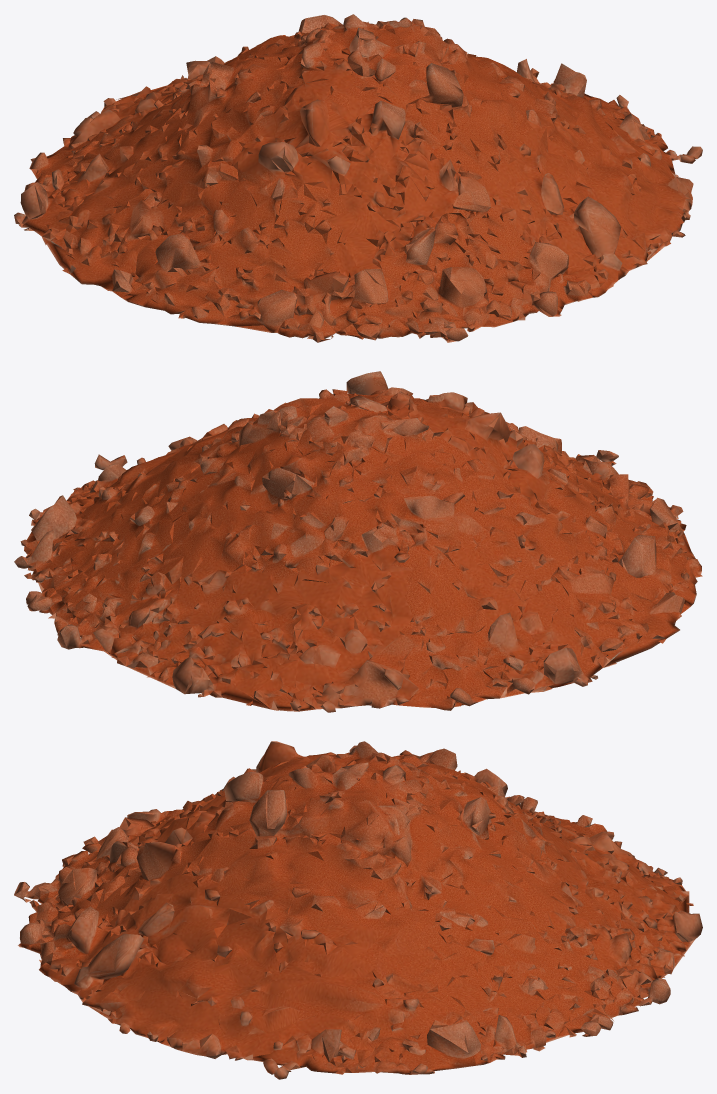
The model's file is soil.glb.
3 views of the same model, one above another, from view 1: azimuth 30°, elevation 25°; view 2: azimuth 150°, elevation 25°; view 3: azimuth 270°, elevation 25° (orthographic).
Visible parts, largest first — view 1: mesh_node; view 2: mesh_node; view 3: mesh_node.
Part boxes in pixels (bbox=[...]): mesh_node: bbox=[14, 14, 702, 342]; mesh_node: bbox=[14, 371, 702, 712]; mesh_node: bbox=[14, 741, 702, 1079].
Bounding box in the file's own units: 3.66 × 1 × 3.63.
1 material, 1 textured.
